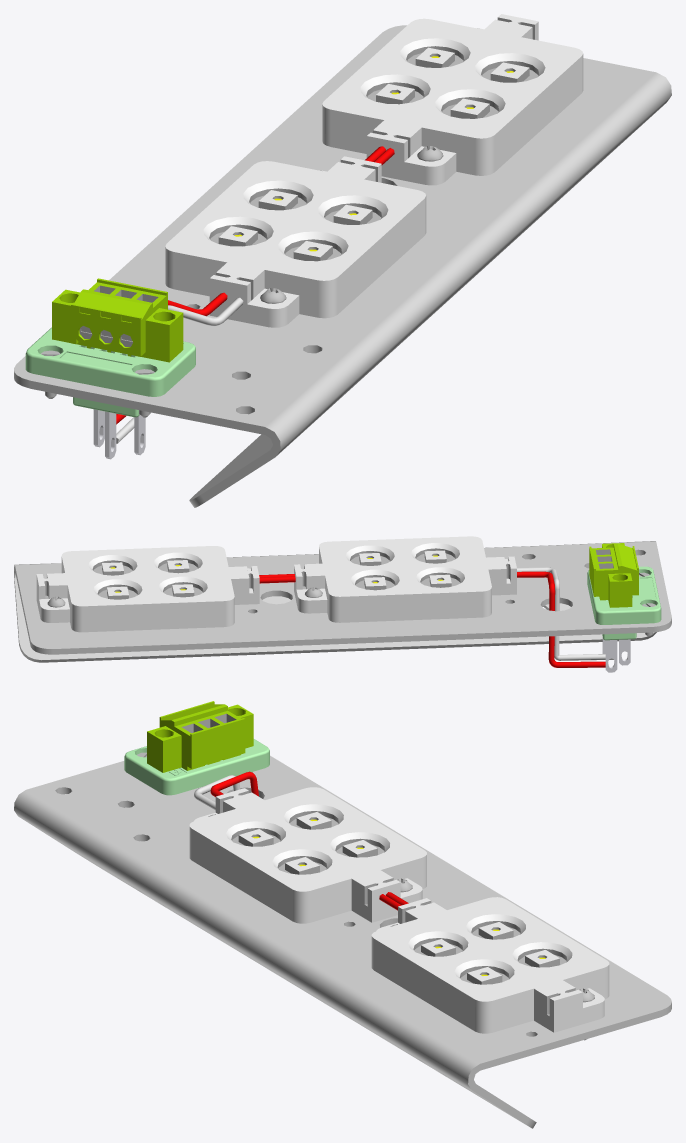
The model's file is 07_svetodiodnye-svetilniki.glb.
3 views of the same model, one above another, from view 1: azimuth 30°, elevation 25°; view 2: azimuth 150°, elevation 25°; view 3: azimuth 270°, elevation 25° (orthographic). The views are drawn at different scales.
Visible parts, largest first — view 1: 07_svetodiodnye-svetilniki; view 2: 07_svetodiodnye-svetilniki; view 3: 07_svetodiodnye-svetilniki.
Boxes of the visible parts, x1,y1,x2,y2 form: 07_svetodiodnye-svetilniki: (14,14,671,507); 07_svetodiodnye-svetilniki: (14,536,671,672); 07_svetodiodnye-svetilniki: (14,701,671,1128).
Bounding box in the file's own units: 0.1563 × 0.0319 × 0.1305.
